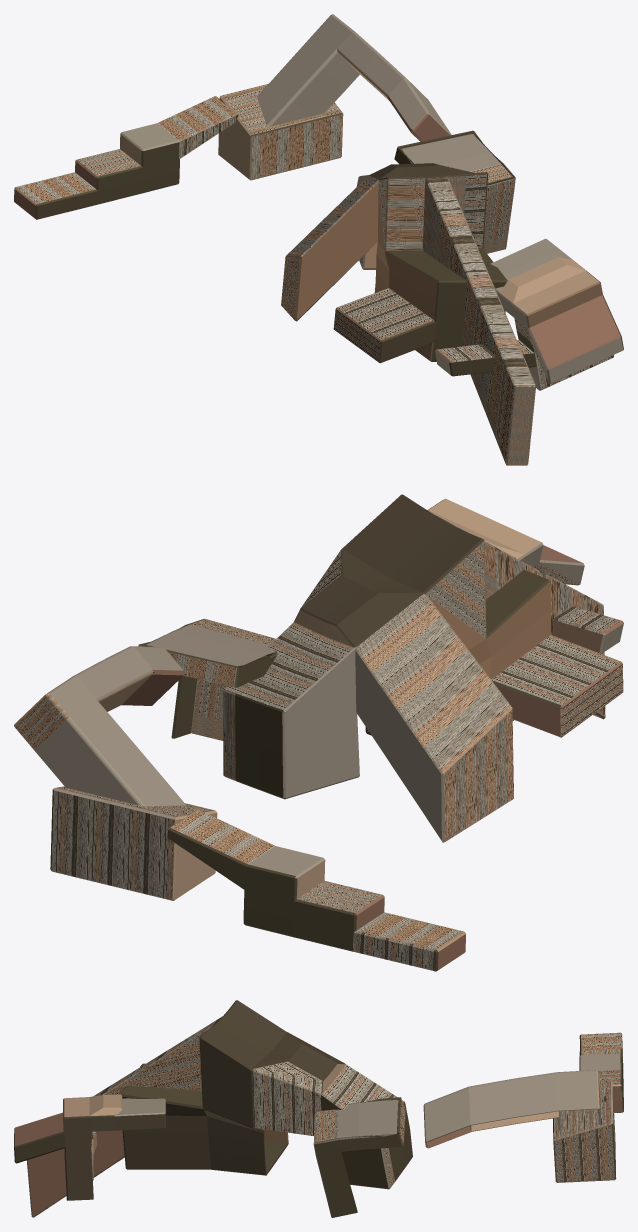
File: gym1d.glb
The picture shows the model from 3 angles, top to bottom: view 1: azimuth 30°, elevation 25°; view 2: azimuth 150°, elevation 25°; view 3: azimuth 270°, elevation 25°; orthographic projection. The views are drawn at different scales.
Parts seen in each view (by area): view 1: doors.002; view 2: doors.002; view 3: doors.002.
Part boxes in pixels (box(x1,y1,x2,y2)): doors.002: box(14, 14, 623, 465); doors.002: box(14, 494, 623, 971); doors.002: box(14, 1000, 623, 1217).
Size of the model in its own units: 19.28 by 11.64 by 31.56.
1 material, 1 textured.
